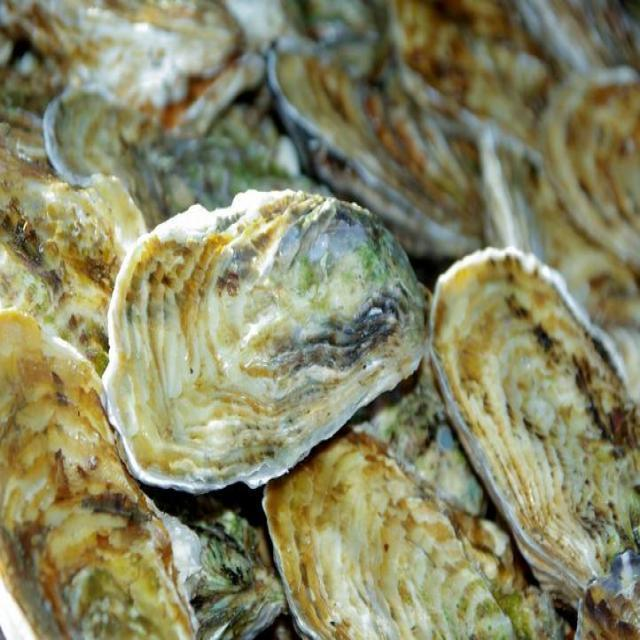Oyster- Indeterminate: (100, 185, 433, 486), (435, 242, 640, 640), (261, 416, 559, 640), (0, 305, 198, 640), (483, 124, 640, 389), (48, 85, 316, 233), (389, 0, 577, 164), (537, 62, 640, 266)
Oyster-Closed: (274, 34, 485, 251)
